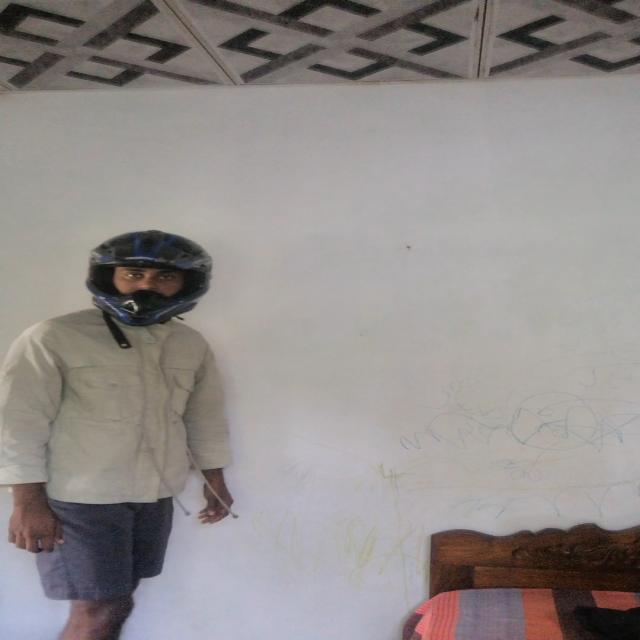Helmet_Wearer: (68, 234, 236, 338)
Jacket_Wearer: (12, 299, 241, 527)
Person: (0, 220, 261, 637)
